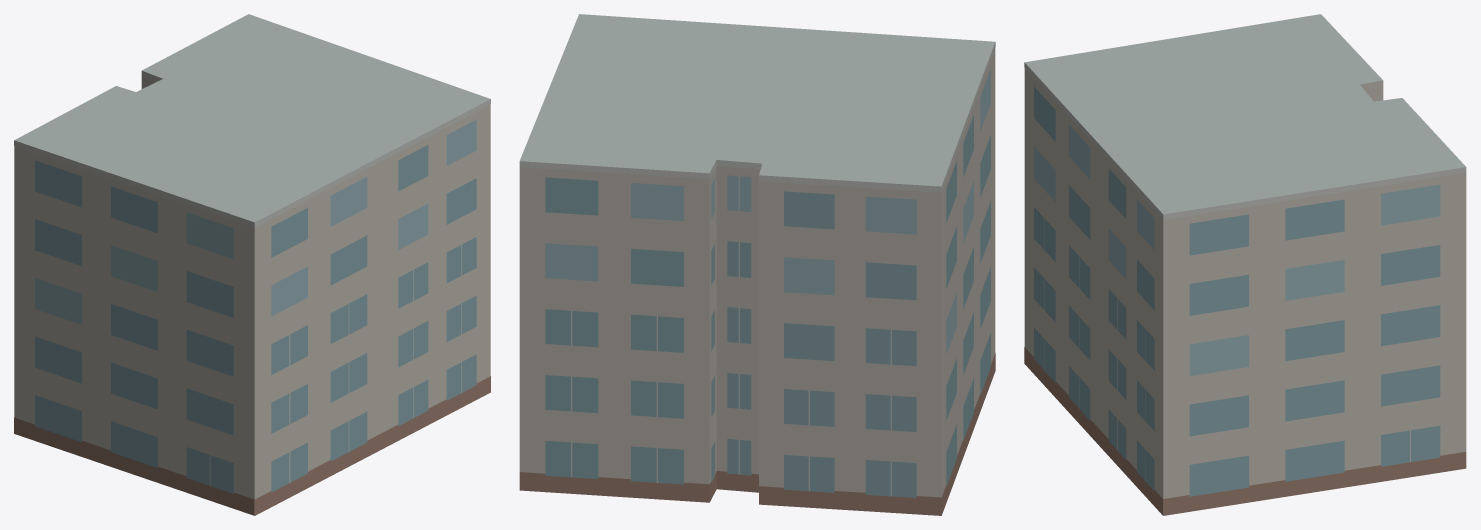
File: survey-upis-32974826.glb
3 renders of one model, left to right at view 1: azimuth 30°, elevation 25°; view 2: azimuth 150°, elevation 25°; view 3: azimuth 270°, elevation 25°, orthographic. The views are drawn at different scales.
Parts seen in each view (by area): view 1: survey-upis-32974826.tmp; view 2: survey-upis-32974826.tmp; view 3: survey-upis-32974826.tmp.
Boxes of the visible parts, x1=… form: survey-upis-32974826.tmp: x1=14, y1=14, x2=490, y2=515; survey-upis-32974826.tmp: x1=519, y1=14, x2=995, y2=515; survey-upis-32974826.tmp: x1=1024, y1=14, x2=1466, y2=515.
Bounding box in the file's own units: 19.2 × 13.46 × 17.89.
